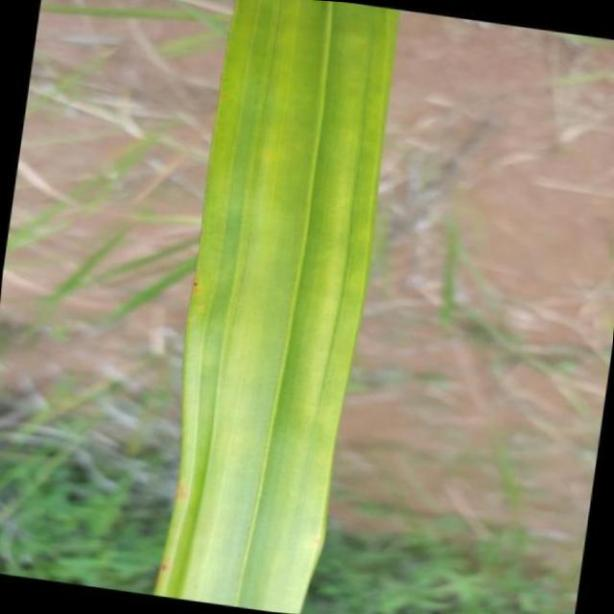nitrogen: (155, 0, 393, 614)
